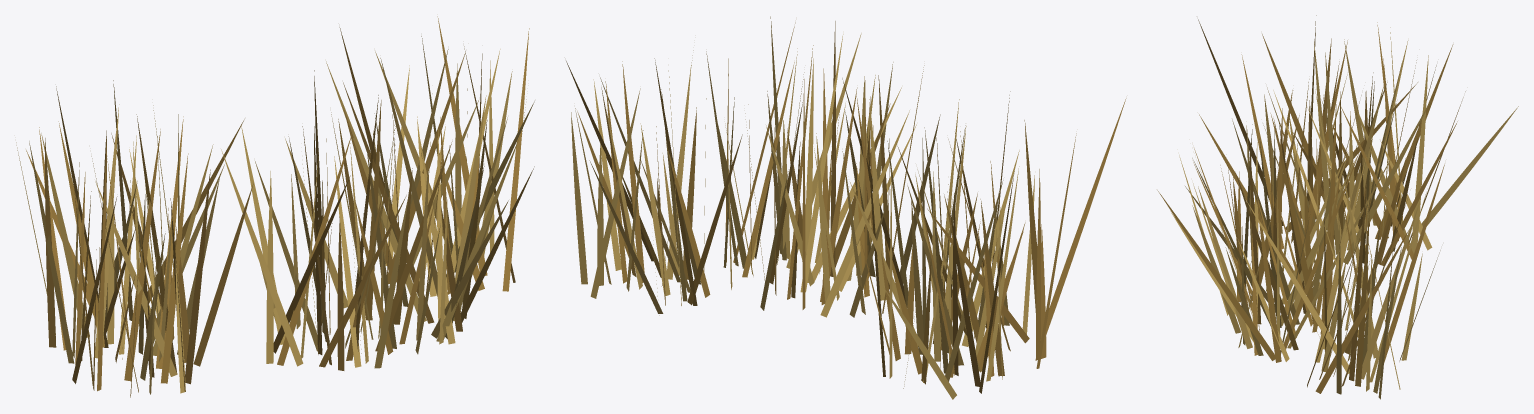
The model's file is grass_tufts.glb.
3 renders of one model, left to right at view 1: azimuth 30°, elevation 25°; view 2: azimuth 150°, elevation 25°; view 3: azimuth 270°, elevation 25°, orthographic. The views are drawn at different scales.
Visible parts, largest first — view 1: Tall grass; view 2: Tall grass; view 3: Tall grass.
Part boxes in pixels (box(x1,y1,x2,y2)): Tall grass: box(16, 16, 534, 397); Tall grass: box(566, 16, 1126, 399); Tall grass: box(1157, 15, 1518, 399).
Size of the model in its own units: 3.19 by 1.6 by 2.44.
